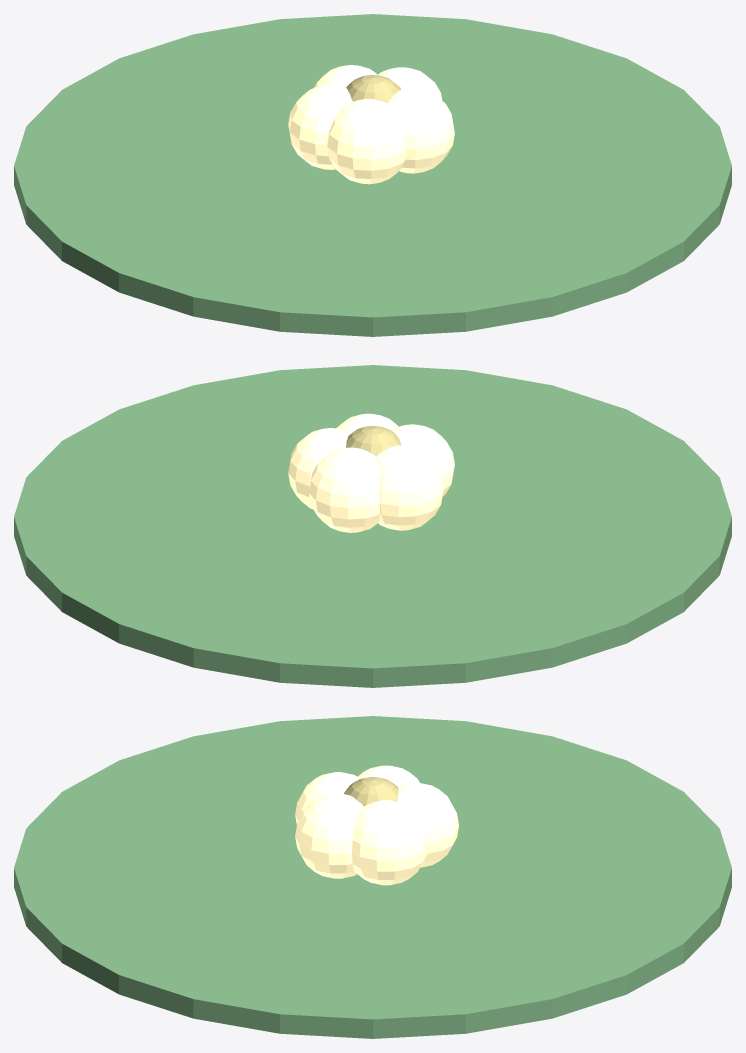
File: lily_pad.glb
3 renders of one model, top to bottom at view 1: azimuth 30°, elevation 25°; view 2: azimuth 150°, elevation 25°; view 3: azimuth 270°, elevation 25°, orthographic.
Visible parts, largest first — view 1: lily_pad; view 2: lily_pad; view 3: lily_pad.
Part boxes in pixels (x1,y1,x2,y2): lily_pad: (14,14,731,336); lily_pad: (14,365,731,687); lily_pad: (14,716,731,1038).
Bounding box in the file's own units: 1 × 0.165 × 1.
